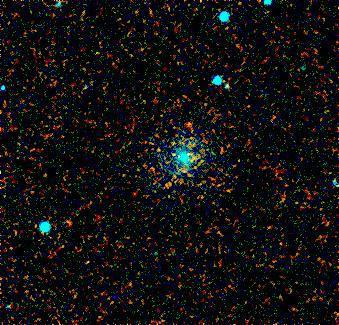star: (52, 203, 82, 233)
